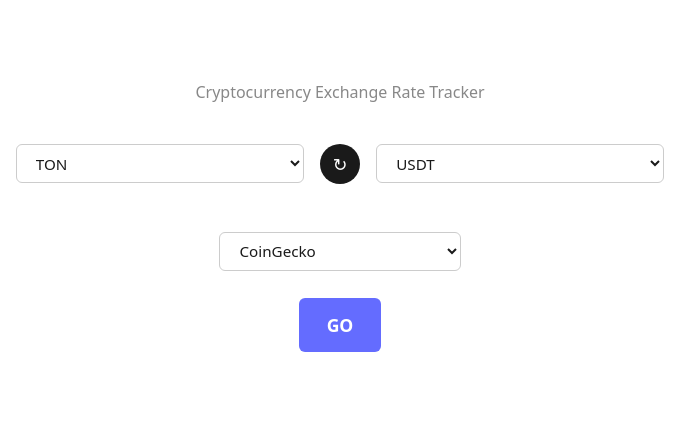
Test case: App › fetches exchange rate when GO button is clicked
The image size is (681, 439).
Click the button "GO".
click(340, 325)  # box [299, 298, 381, 352]
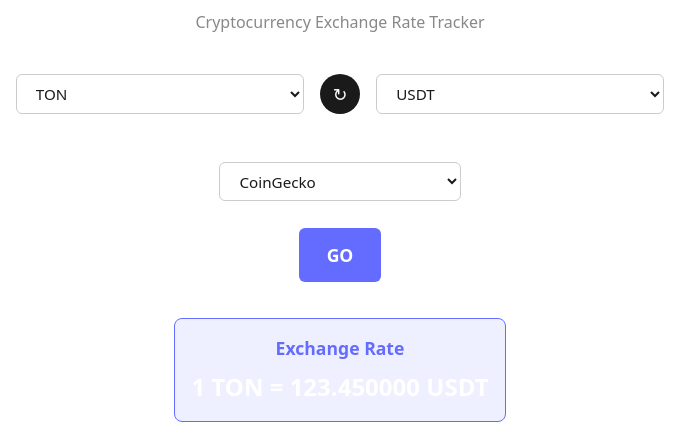
Expected: the heading "Exchange Rate" is shown, [276, 336, 404, 360]
